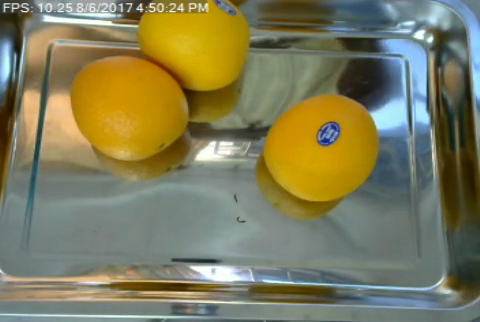Orange: (264, 92, 379, 202), (70, 55, 189, 160), (139, 0, 251, 90)
